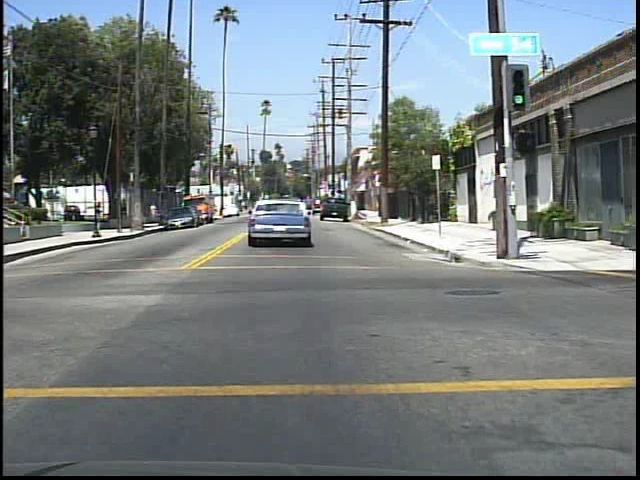person: (149, 199, 162, 223), (118, 194, 131, 218), (93, 197, 104, 220)
